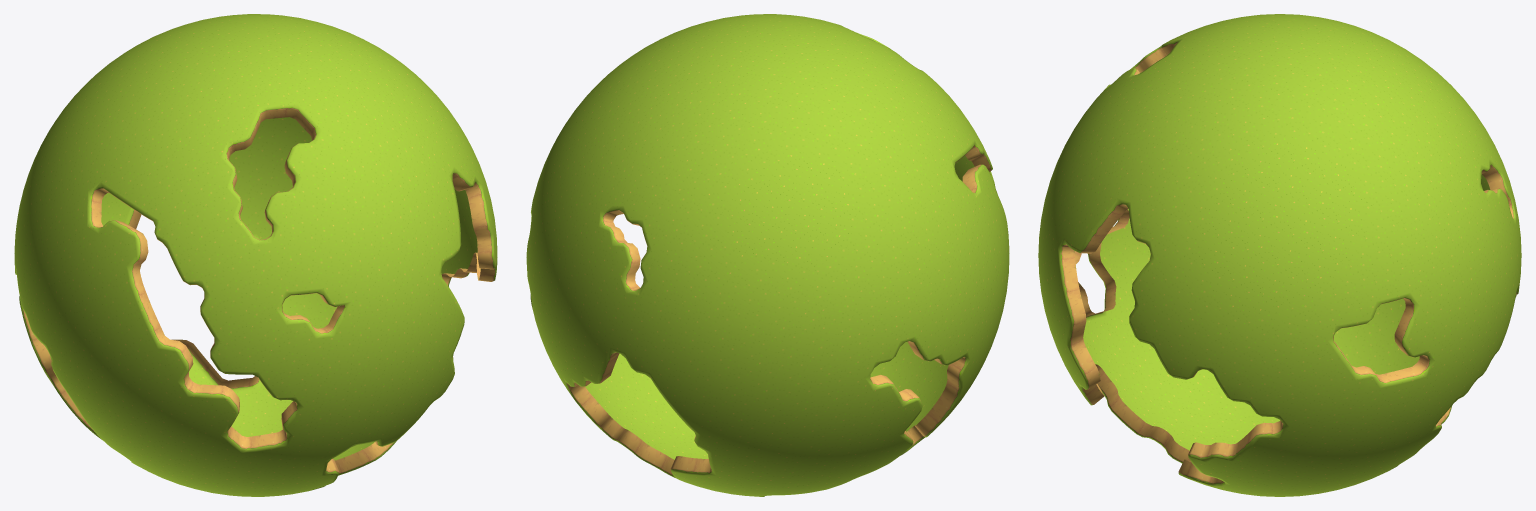
Rendered from planet_land_80%_smooth.fbx.
3 views of the same model, side by side, from view 1: azimuth 30°, elevation 25°; view 2: azimuth 150°, elevation 25°; view 3: azimuth 270°, elevation 25° (orthographic).
Visible parts, largest first — view 1: planet_land_80%_smooth; view 2: planet_land_80%_smooth; view 3: planet_land_80%_smooth.
Boxes of the visible parts, x1,y1,x2,y2 form: planet_land_80%_smooth: (14,14,497,496); planet_land_80%_smooth: (526,14,1009,496); planet_land_80%_smooth: (1038,14,1521,496).
Bounding box in the file's own units: 30 × 30 × 30.
